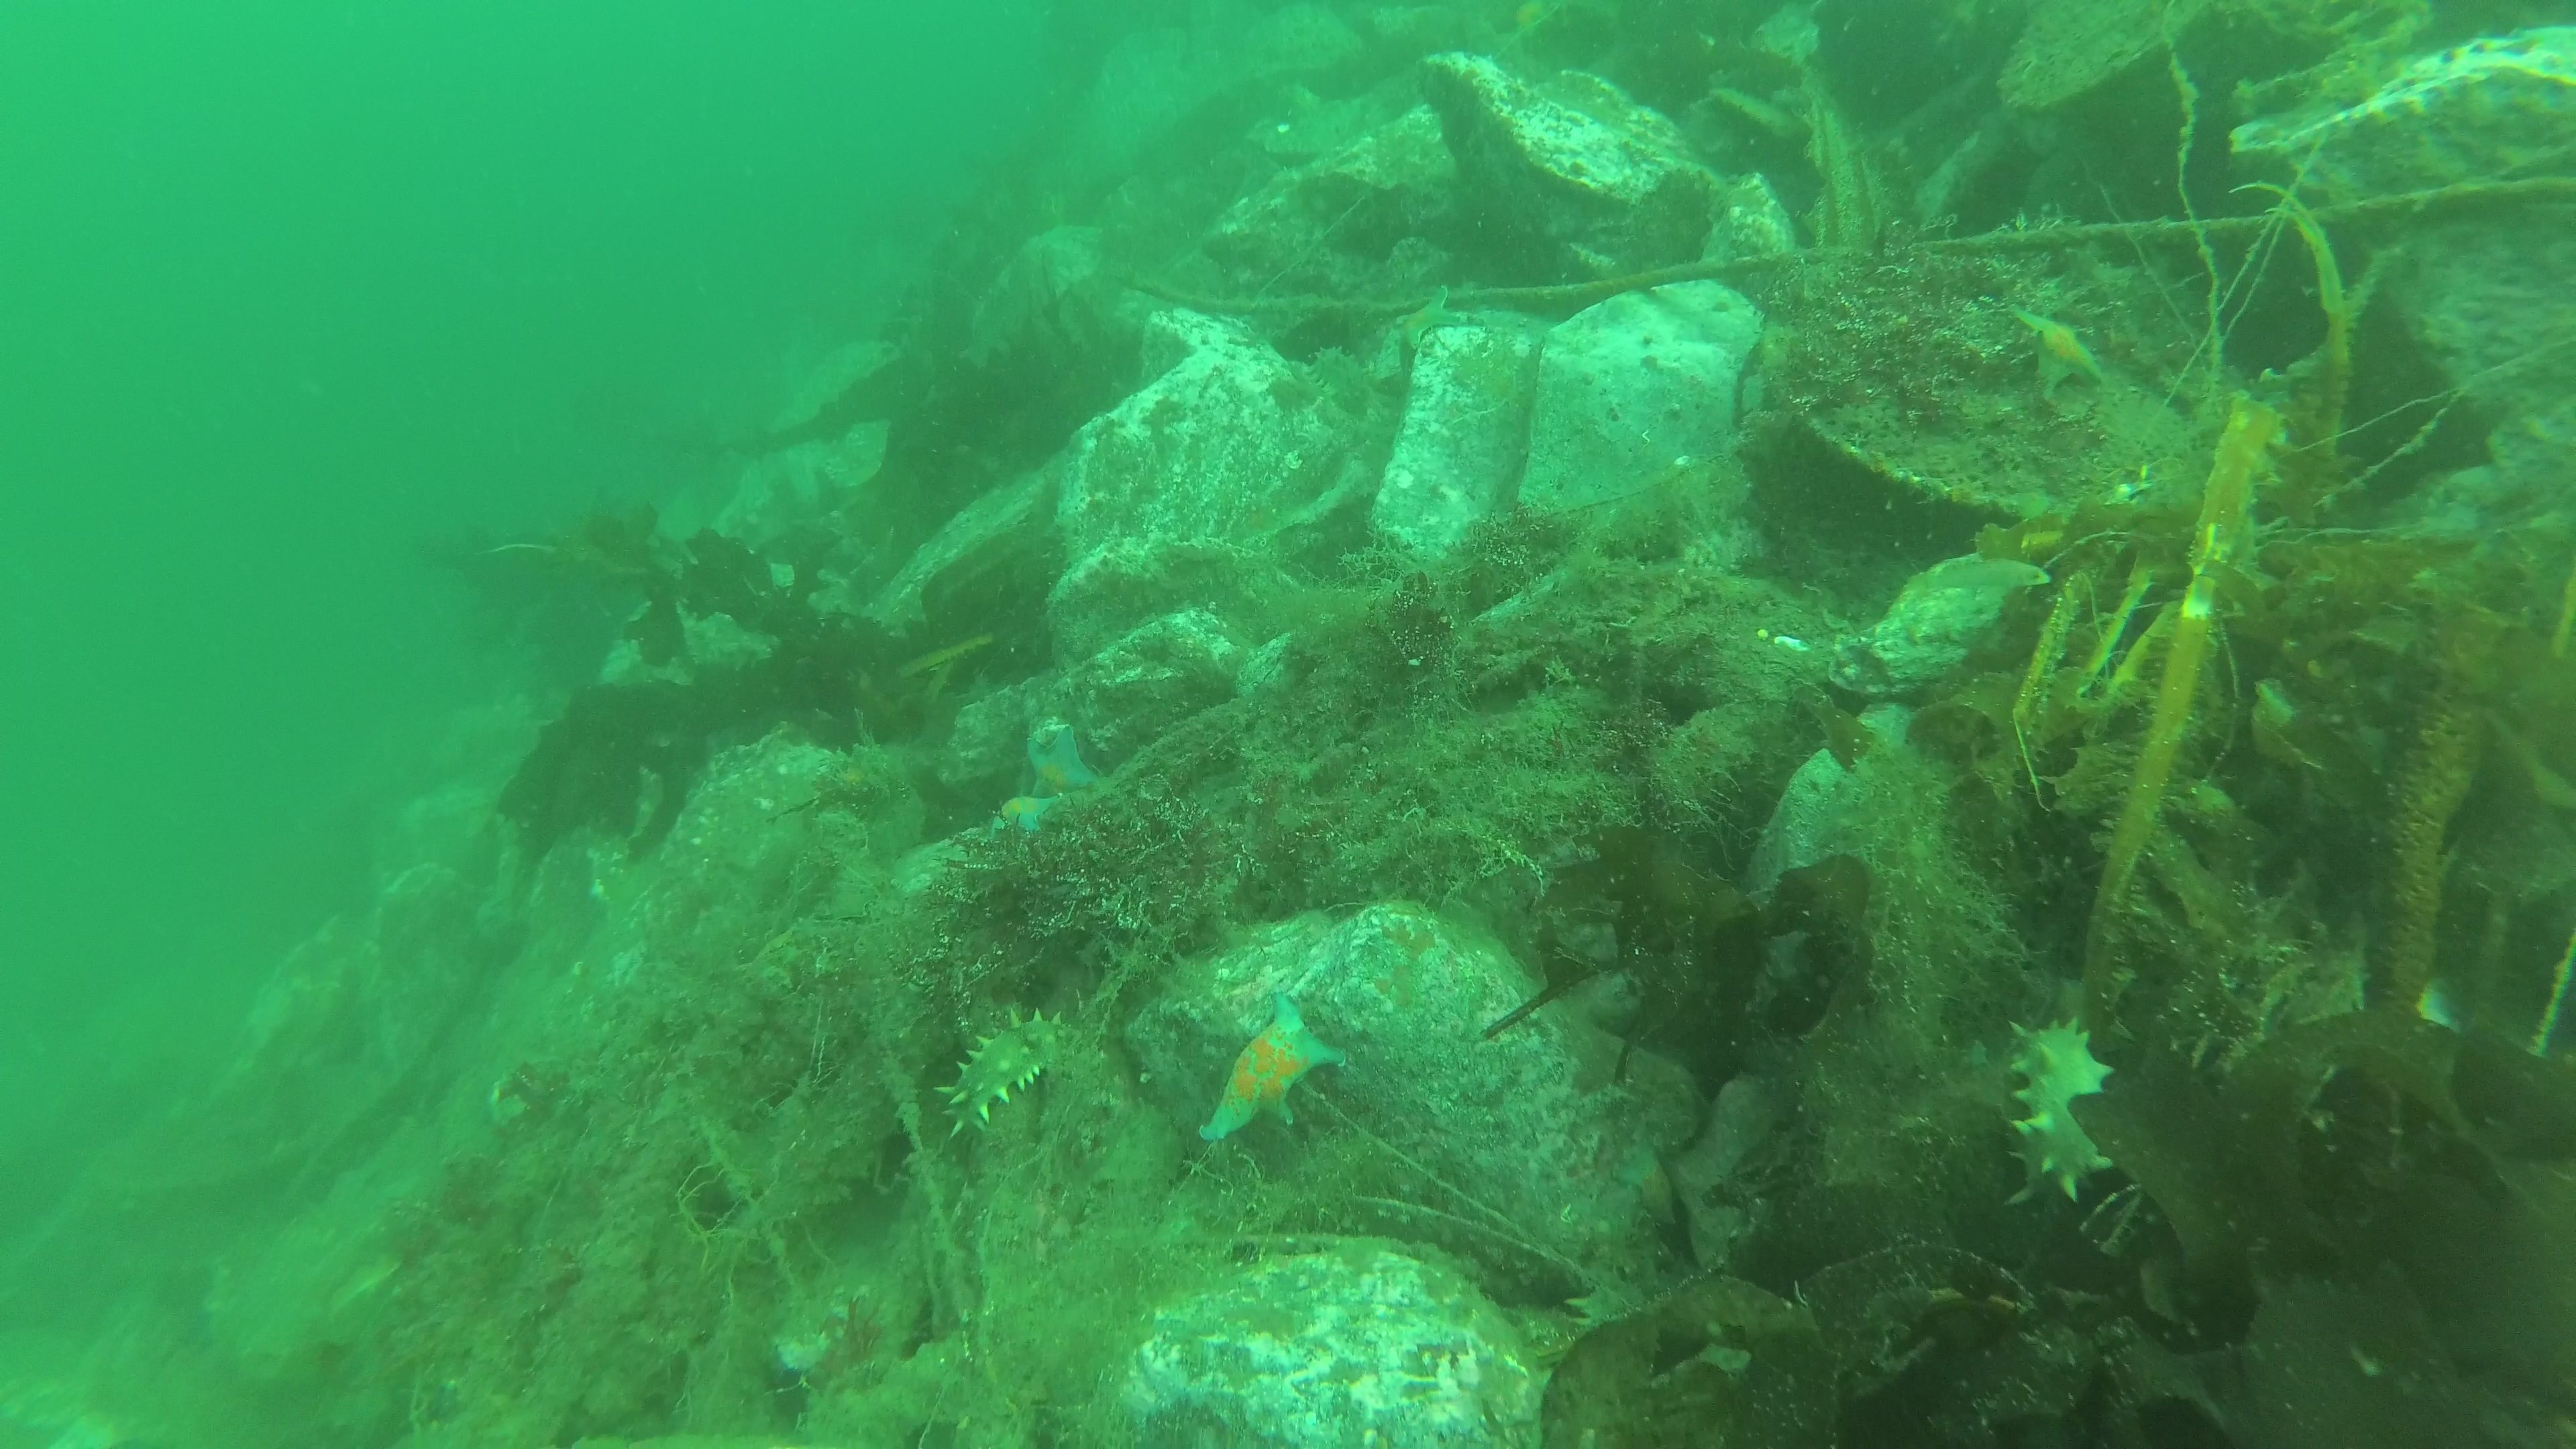holothurian: (2006, 1016, 2121, 1208), (932, 1008, 1083, 1139), (1315, 345, 1375, 416)
starfish: (1200, 998, 1346, 1141), (2008, 308, 2104, 402), (1028, 725, 1102, 809), (1396, 287, 1463, 350), (991, 794, 1065, 837)
